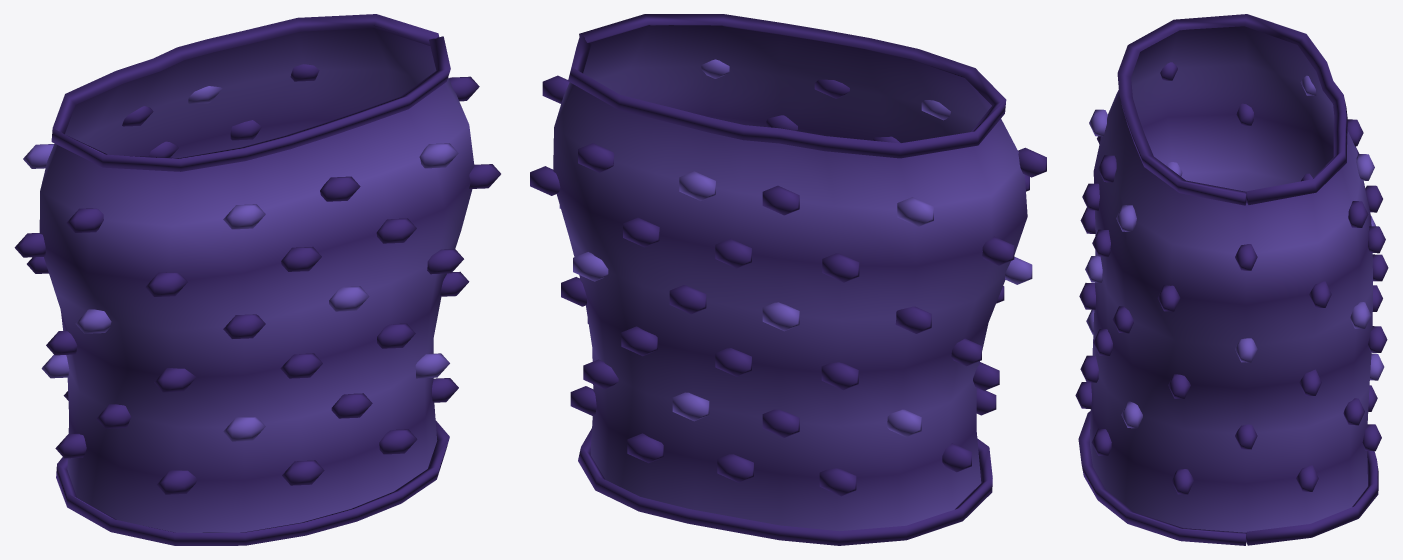
File: demonite_armor_chest.glb
The picture shows the model from 3 angles, left to right: view 1: azimuth 30°, elevation 25°; view 2: azimuth 150°, elevation 25°; view 3: azimuth 270°, elevation 25°; orthographic projection. The views are drawn at different scales.
Visible parts, largest first — view 1: demonite_armor_chest; view 2: demonite_armor_chest; view 3: demonite_armor_chest.
Part boxes in pixels (left/top/right/bottom): demonite_armor_chest: left=14, top=14, right=500, bottom=545; demonite_armor_chest: left=530, top=14, right=1046, bottom=545; demonite_armor_chest: left=1075, top=14, right=1388, bottom=545.
Bounding box in the file's own units: 0.4834 × 0.3859 × 0.3018.
